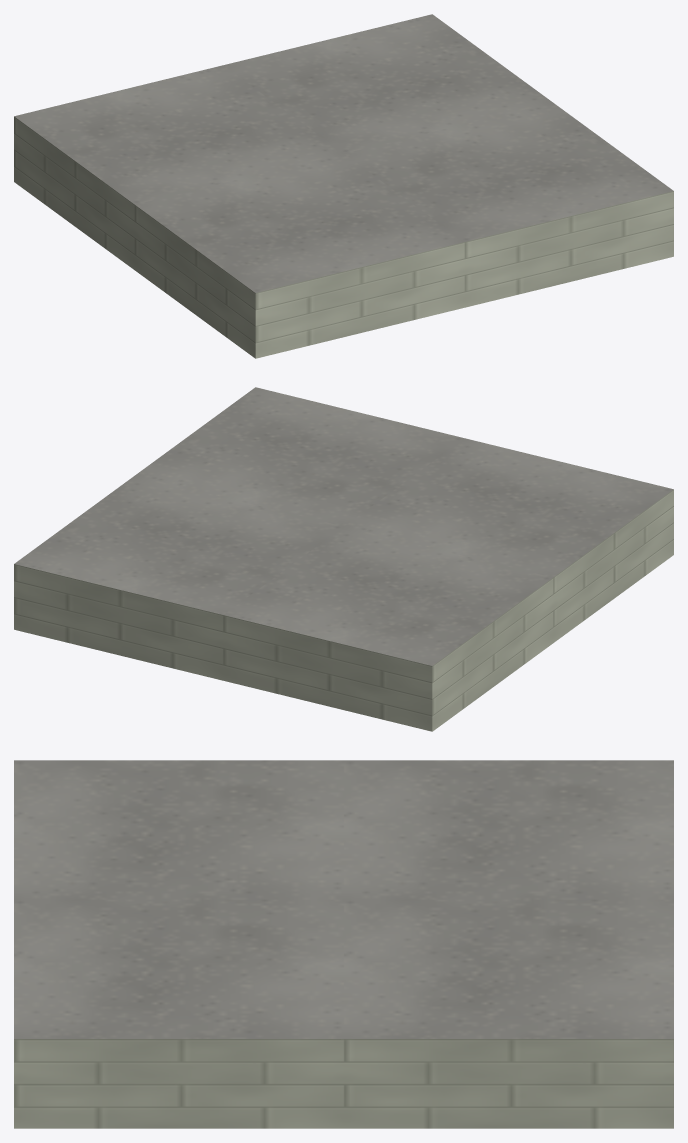
The model's file is floor_prison_upper.fbx.
The picture shows the model from 3 angles, top to bottom: view 1: azimuth 30°, elevation 25°; view 2: azimuth 150°, elevation 25°; view 3: azimuth 270°, elevation 25°; orthographic projection. The views are drawn at different scales.
Visible parts, largest first — view 1: floor_prison_upper; view 2: floor_prison_upper; view 3: floor_prison_upper.
Part boxes in pixels (<box>): floor_prison_upper: <box>14,14,673,358</box>; floor_prison_upper: <box>14,387,673,731</box>; floor_prison_upper: <box>14,760,673,1128</box>.
Size of the model in its own units: 2 by 0.3 by 2.
Materials: 1 (1 with a texture image).
